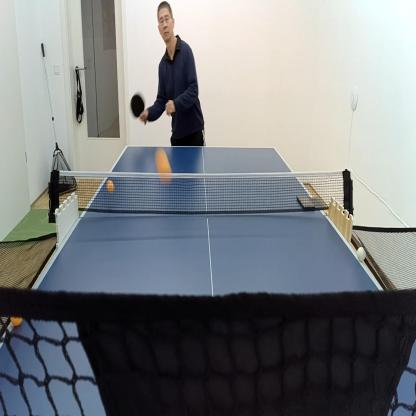Ball: (154, 147, 172, 184), (356, 245, 367, 263), (10, 315, 24, 328), (106, 179, 115, 195)
